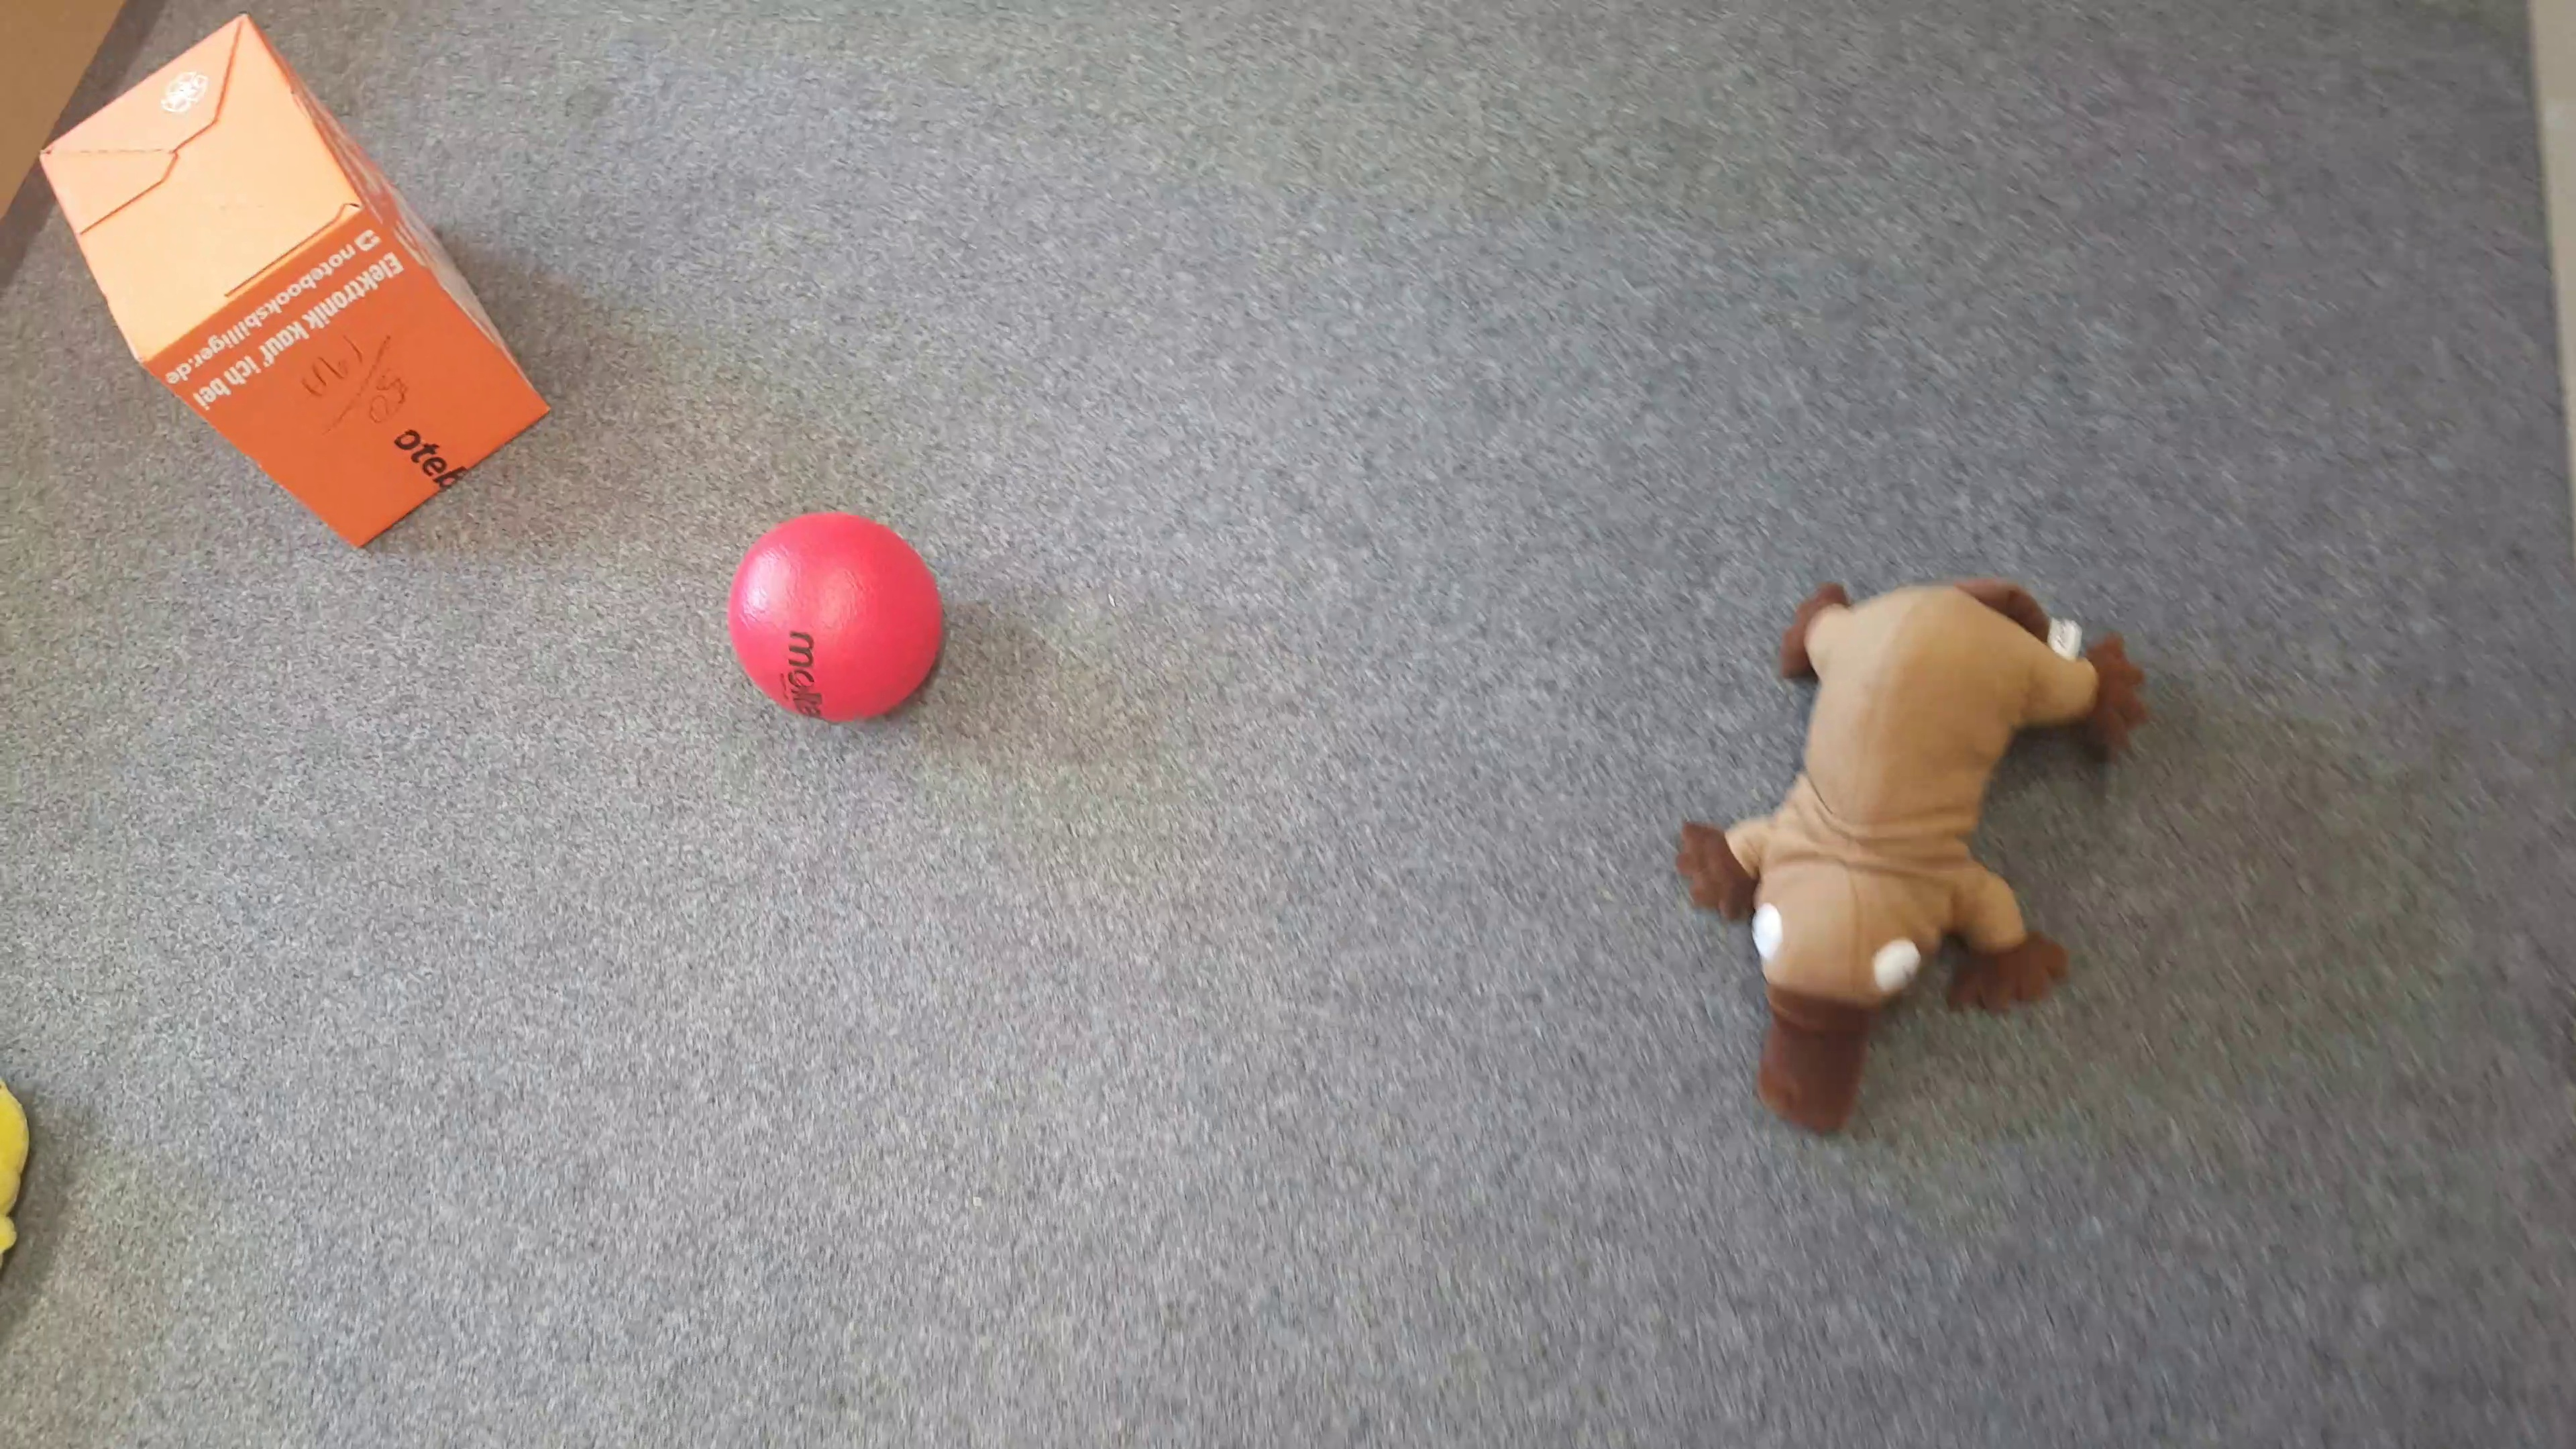grasp: (1686, 571, 2150, 1136)
kick: (729, 513, 948, 729)
push: (37, 16, 554, 548)
